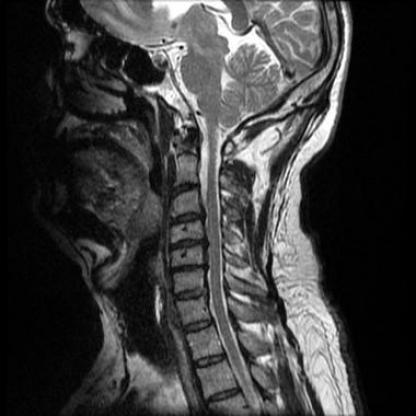Disc Protrusionrotation: (168, 211, 206, 228), (168, 261, 208, 276), (168, 236, 208, 250), (174, 286, 207, 302)
Osteophytesrotation: (168, 211, 206, 228), (168, 261, 208, 276), (168, 236, 208, 250), (174, 286, 207, 302)
